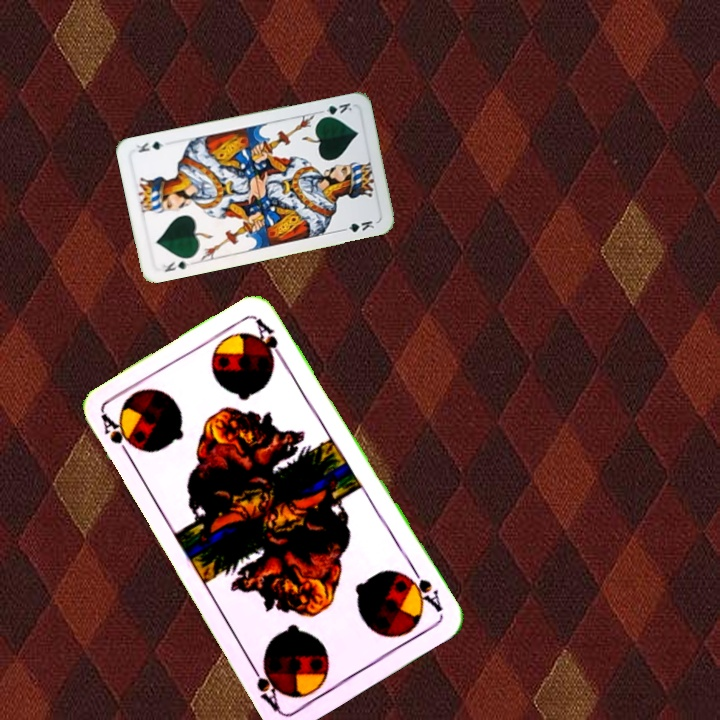GK: (315, 99, 355, 121), (156, 257, 192, 275)
SA: (399, 562, 445, 615), (96, 409, 138, 463)
